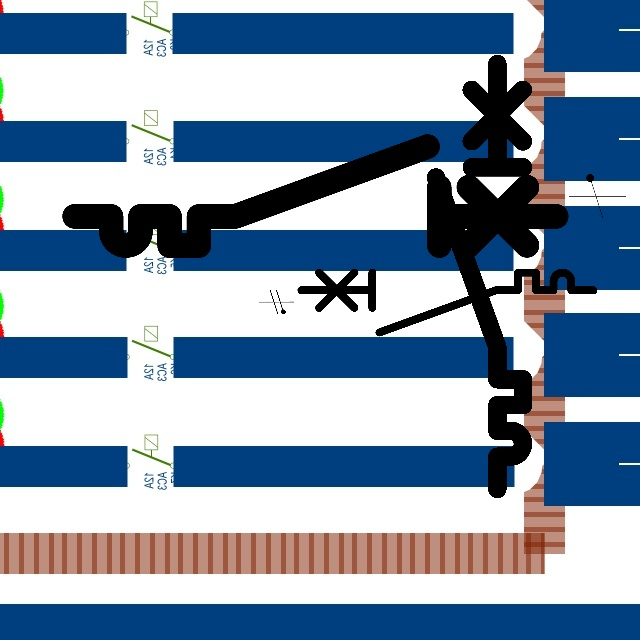interruptor_termomagnetico: (62, 134, 569, 258), (425, 53, 534, 500), (293, 265, 600, 340)
